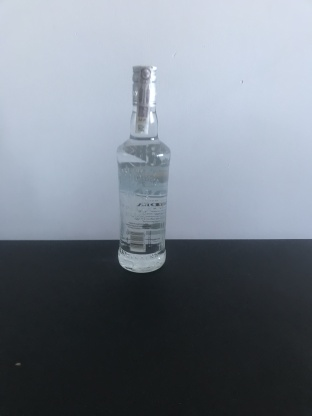nakretka: (129, 61, 159, 109)
